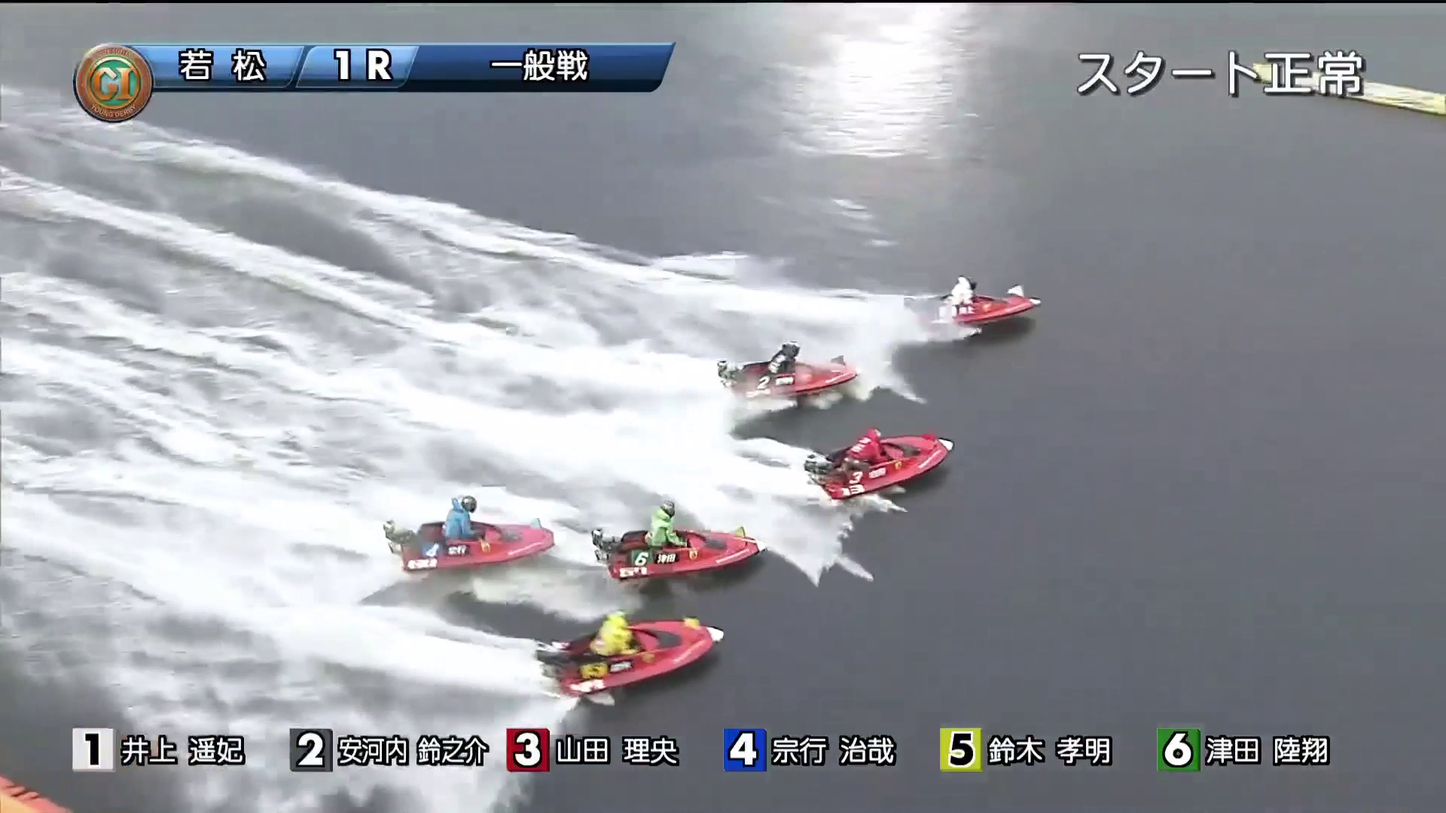１号艇: (932, 283, 1069, 336)
２号艇: (725, 346, 853, 406)
３号艇: (827, 440, 968, 486)
４号艇: (621, 510, 741, 576)
５号艇: (399, 518, 523, 573)
６号艇: (596, 630, 696, 687)
